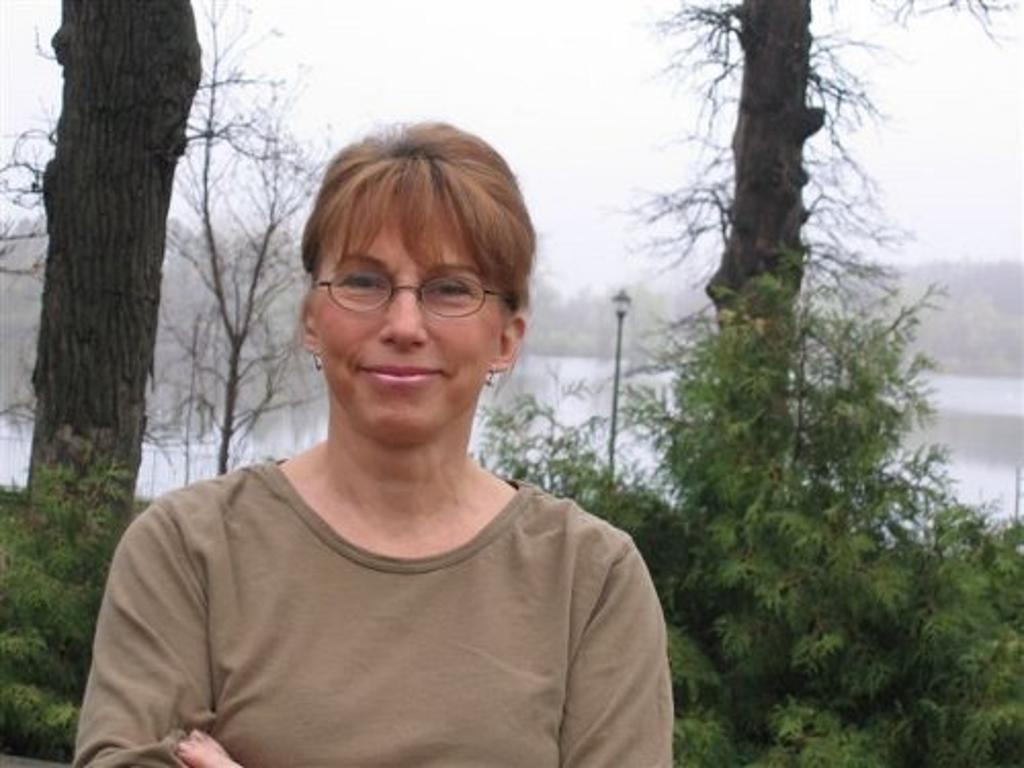face: (324, 190, 488, 418)
